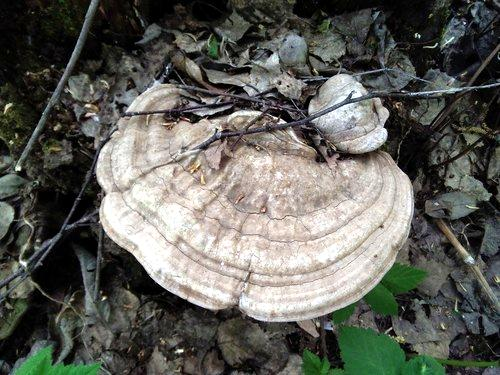Ganoderma - Fruit Body: (97, 76, 416, 328)
